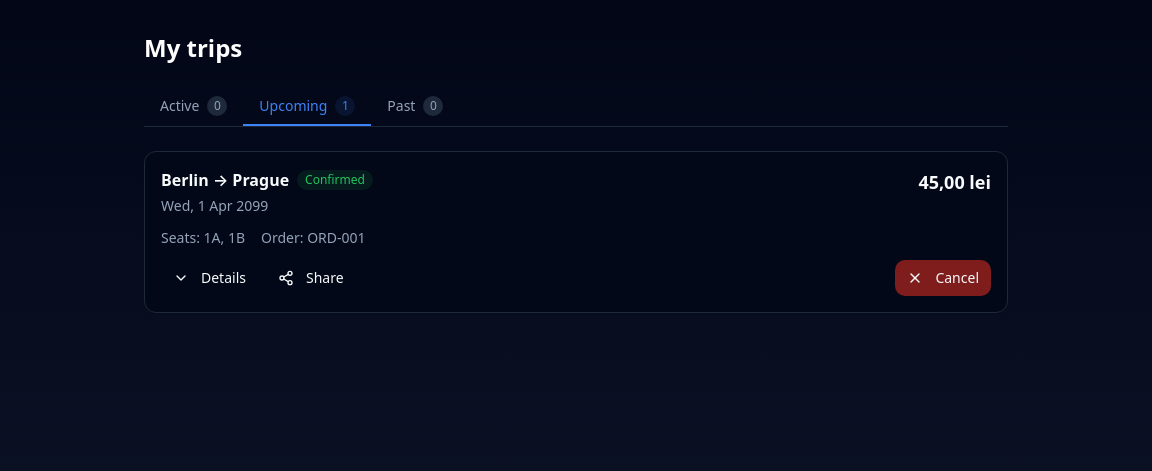
it: MyTripsPage › expandable detail › expands and shows booking details when details button is clicked
Expected: the heading "Berlin → Prague" is shown, [161,168,289,192]
Click the button with aria-label "Expand details" at (210, 278), box [161,260,258,296]
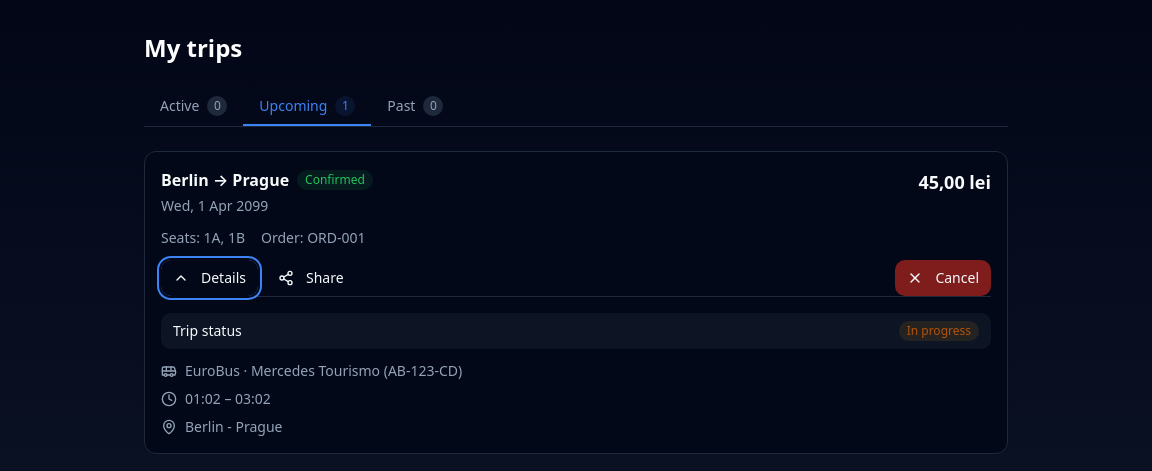
Expected: the button named "Expand details" is expanded, [161,260,258,296]
Expected: the text "EuroBus · Mercedes Tourismo (AB-123-CD)" is shown, [185,361,462,381]
Expected: the text "Trip status" is shown, [173,321,242,341]
